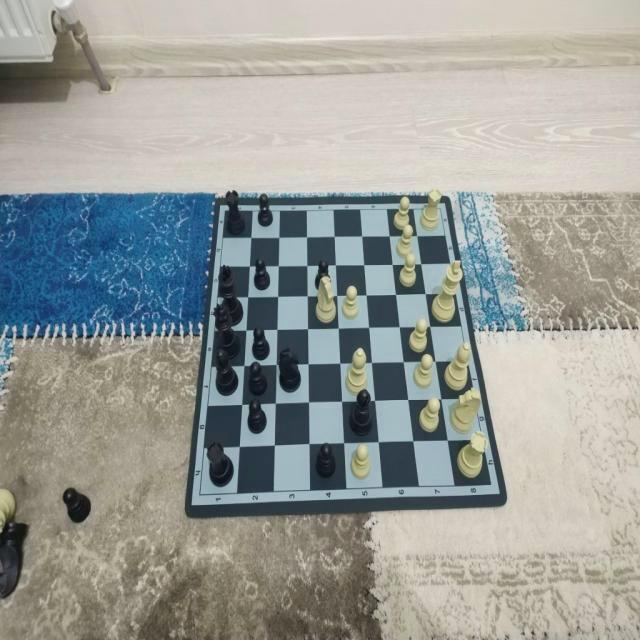chess-table-corners: (486, 479, 496, 491), (196, 489, 206, 501), (220, 206, 230, 217), (436, 203, 444, 214)
